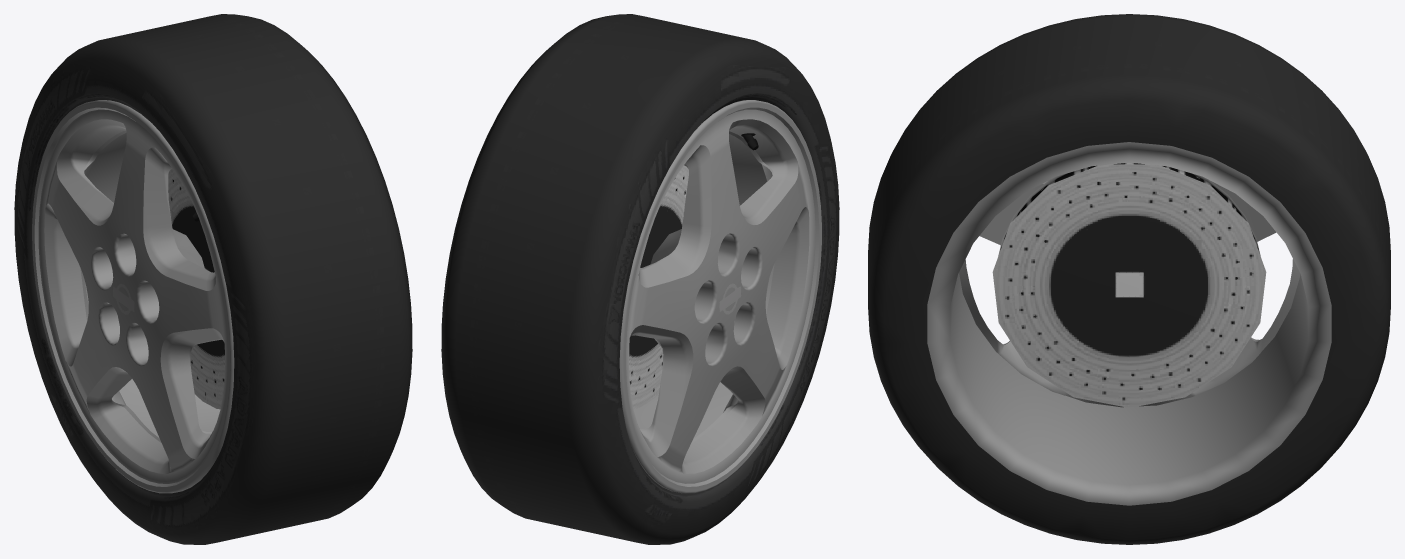
File: tire_fr-v8vpgtQU.glb
3 views of the same model, side by side, from view 1: azimuth 30°, elevation 25°; view 2: azimuth 150°, elevation 25°; view 3: azimuth 270°, elevation 25° (orthographic).
Visible parts, largest first — view 1: wheela:polySurface163, M_Rim_Main_Max; view 2: wheela:polySurface163, M_Rim_Main_Max, M_RimBadge_Max; view 3: wheela:polySurface163, M_Rim_Main_Max.
Boxes of the visible parts, box(x1,y1,x2,y2) form: wheela:polySurface163: box(14, 14, 412, 544); M_Rim_Main_Max: box(32, 100, 234, 493); wheela:polySurface163: box(441, 14, 839, 544); M_Rim_Main_Max: box(619, 100, 821, 493); M_RimBadge_Max: box(719, 133, 758, 322); wheela:polySurface163: box(868, 14, 1390, 544); M_Rim_Main_Max: box(927, 142, 1331, 505).
Bounding box in the file's own units: 0.4054 × 1.02 × 1.01.
Materials: 3 (2 with a texture image).
